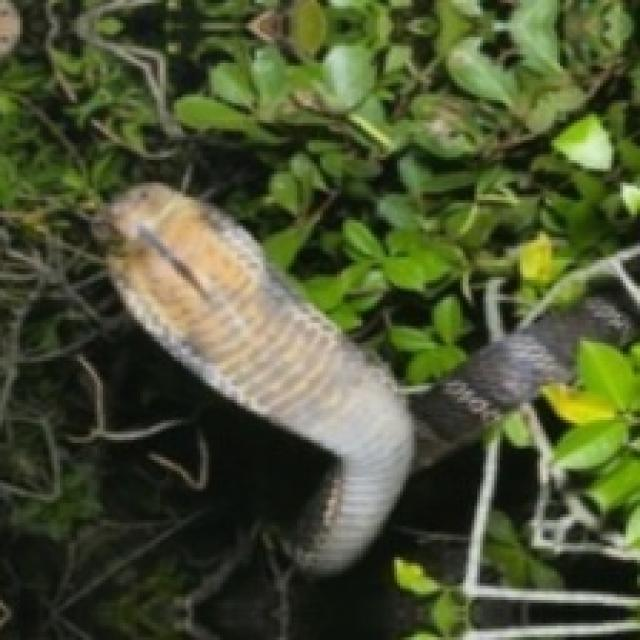king cobra: (97, 183, 629, 571)
